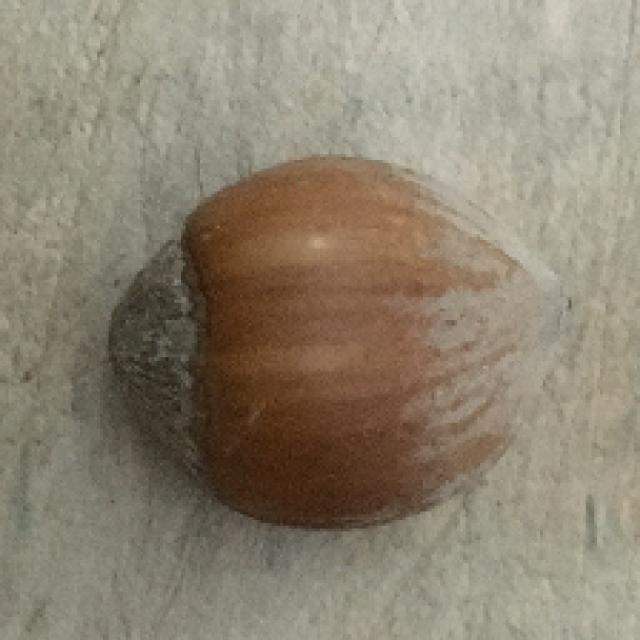qualityHazelnut: (115, 153, 560, 532)
